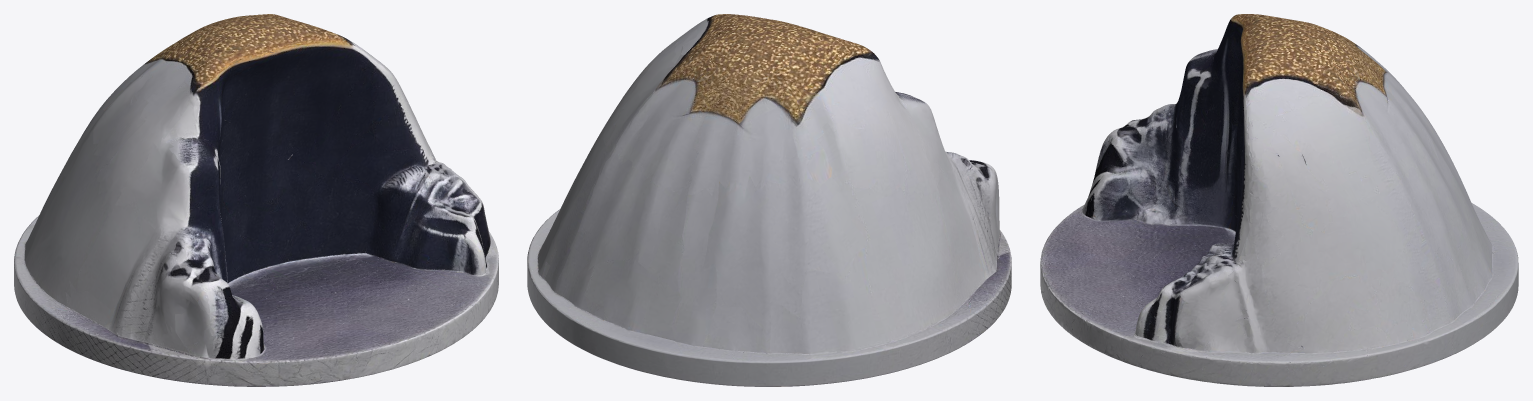
Rendered from half_dome.glb.
3 views of the same model, side by side, from view 1: azimuth 30°, elevation 25°; view 2: azimuth 150°, elevation 25°; view 3: azimuth 270°, elevation 25° (orthographic).
Size of the model in its own units: 1.9 by 1.12 by 1.9.
1 material, 1 textured.
